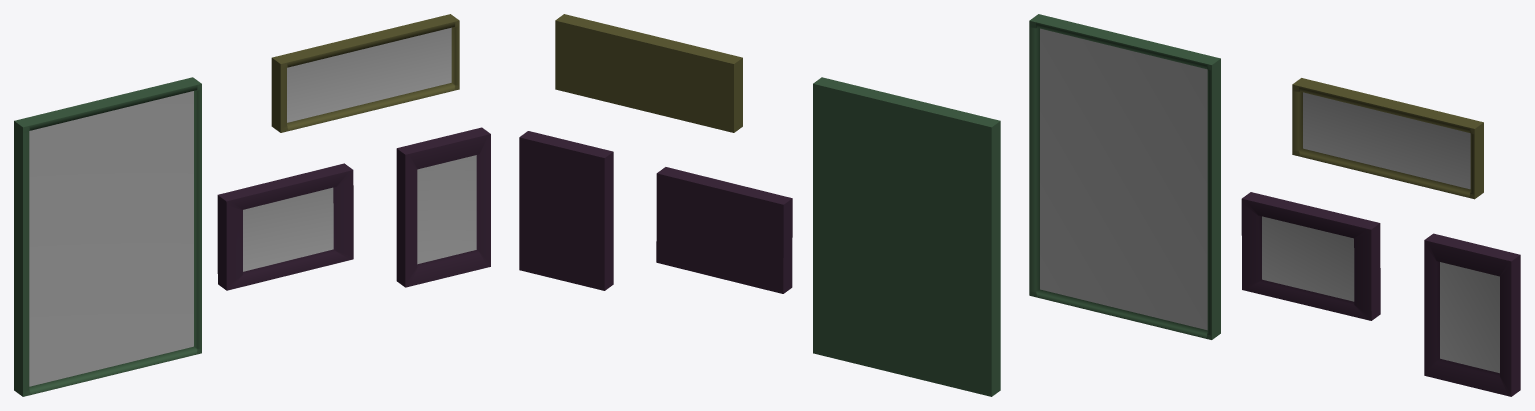
Rendered from Gemälde.fbx.
3 views of the same model, side by side, from view 1: azimuth 30°, elevation 25°; view 2: azimuth 150°, elevation 25°; view 3: azimuth 330°, elevation 25° (orthographic). The views are drawn at different scales.
Visible parts, largest first — view 1: BilderRahmenGroß, BilderRahmenBreit, BilderRahmenKlein1, BilderRahmenKlein2; view 2: BilderRahmenGroß, BilderRahmenBreit, BilderRahmenKlein1, BilderRahmenKlein2; view 3: BilderRahmenGroß, BilderRahmenBreit, BilderRahmenKlein2, BilderRahmenKlein1.
Boxes of the visible parts, box(x1,y1,x2,y2) form: BilderRahmenGroß: box(14, 77, 201, 396); BilderRahmenBreit: box(271, 14, 459, 132); BilderRahmenKlein1: box(217, 163, 353, 290); BilderRahmenKlein2: box(396, 127, 490, 287); BilderRahmenGroß: box(813, 77, 1000, 396); BilderRahmenBreit: box(555, 14, 742, 132); BilderRahmenKlein1: box(656, 167, 792, 293); BilderRahmenKlein2: box(519, 131, 613, 290); BilderRahmenGroß: box(1029, 14, 1220, 339); BilderRahmenBreit: box(1292, 78, 1483, 199); BilderRahmenKlein2: box(1424, 233, 1520, 396); BilderRahmenKlein1: box(1241, 192, 1380, 320).
Bounding box in the file's own units: 9.31 × 5.11 × 0.3864.
